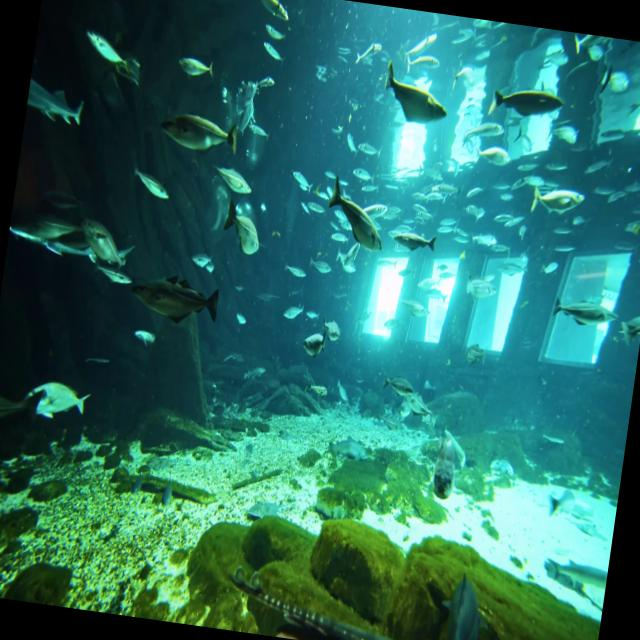fish: (311, 167, 402, 262), (125, 266, 229, 342), (376, 60, 458, 138), (76, 22, 164, 91), (23, 66, 97, 144), (7, 189, 82, 262), (215, 195, 277, 269), (160, 106, 244, 160), (488, 78, 572, 131), (21, 372, 98, 428), (542, 294, 630, 342), (439, 562, 491, 640), (77, 214, 137, 281), (0, 384, 51, 456), (124, 148, 178, 212), (528, 176, 592, 225), (213, 160, 267, 206), (402, 14, 442, 62), (174, 52, 226, 86), (234, 0, 299, 25), (349, 34, 390, 71), (292, 329, 334, 364), (280, 247, 314, 288), (286, 158, 320, 198), (318, 308, 351, 348), (278, 294, 316, 328), (476, 138, 510, 164), (618, 306, 640, 344), (260, 36, 288, 65)
